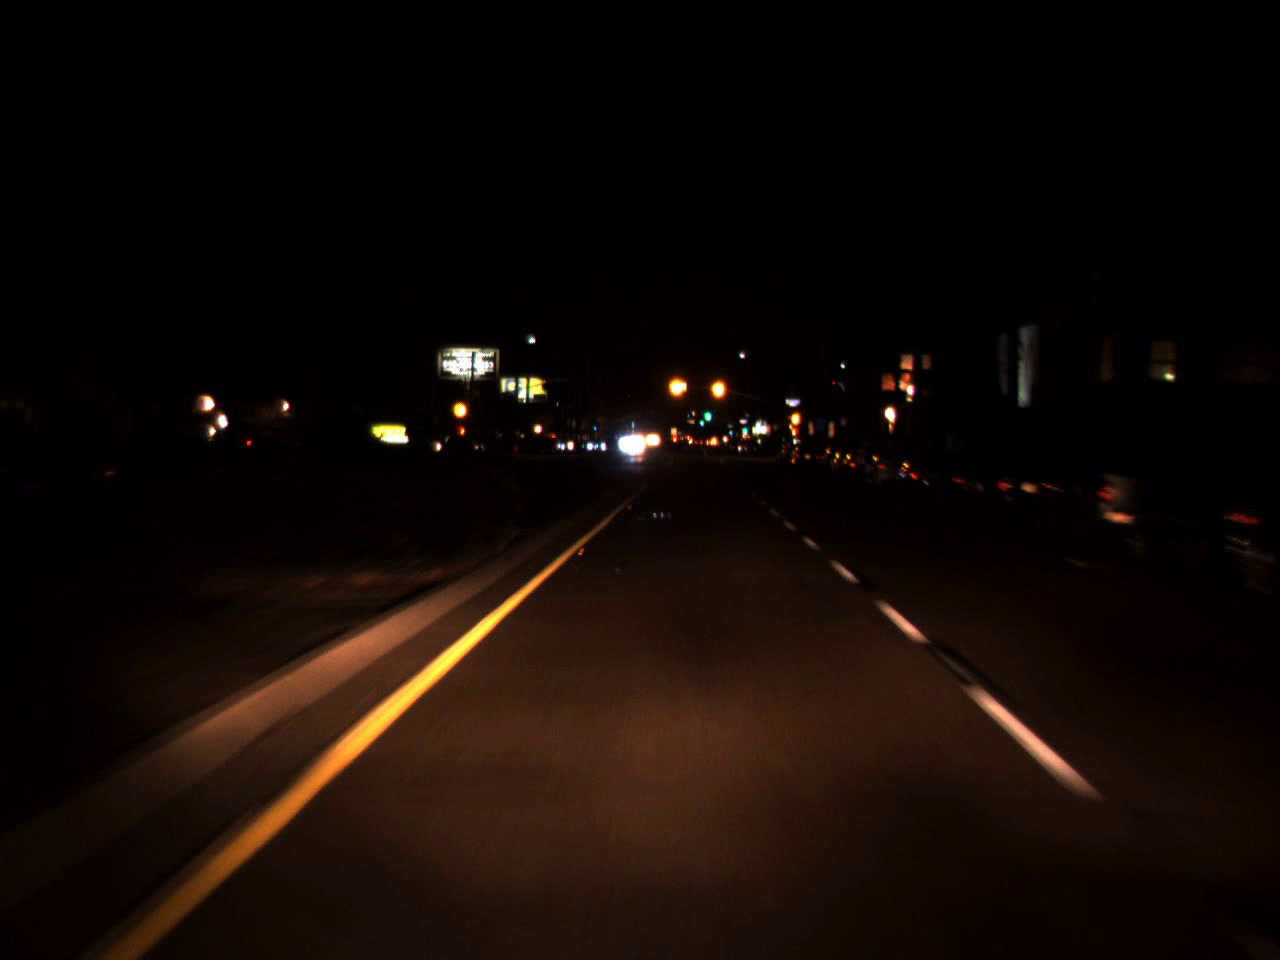go: (701, 404, 711, 422), (741, 422, 748, 434), (697, 415, 703, 427)
warning: (665, 365, 689, 407), (707, 367, 728, 409), (450, 389, 469, 429), (788, 402, 801, 434)
